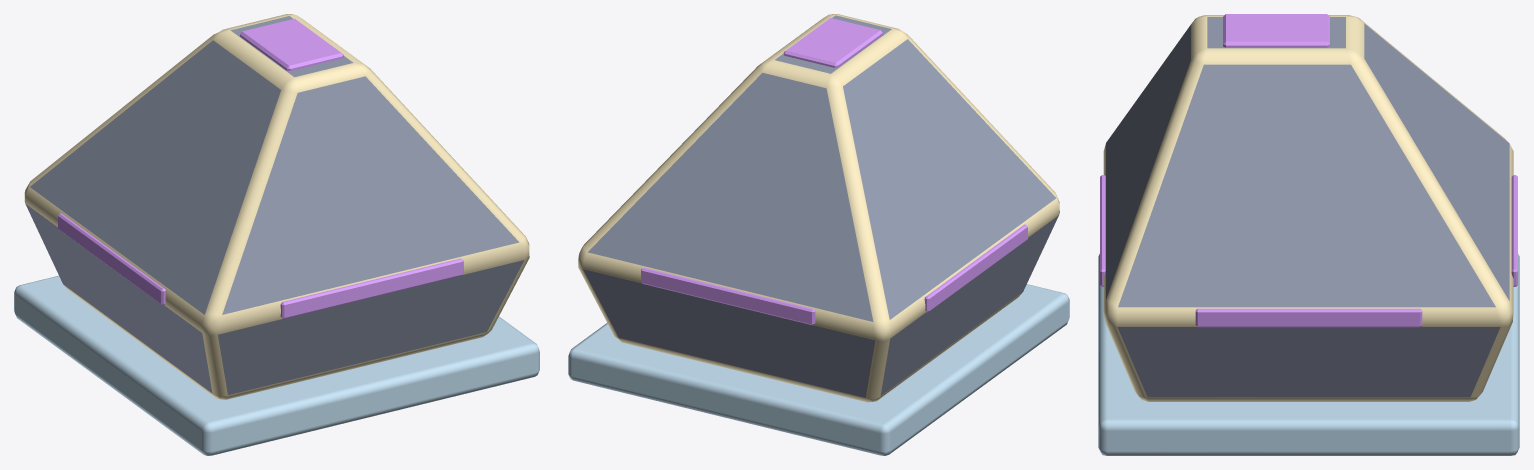
File: R4X_Stealth.glb
3 renders of one model, left to right at view 1: azimuth 30°, elevation 25°; view 2: azimuth 150°, elevation 25°; view 3: azimuth 270°, elevation 25°, orthographic. The views are drawn at different scales.
Parts seen in each view (by area): view 1: R4X_Stealth_Body; view 2: R4X_Stealth_Body; view 3: R4X_Stealth_Body.
Part boxes in pixels (box(x1,y1,x2,y2)): R4X_Stealth_Body: box(14, 14, 539, 455); R4X_Stealth_Body: box(568, 14, 1069, 455); R4X_Stealth_Body: box(1098, 14, 1519, 455).
Size of the model in its own units: 0.52 by 0.4665 by 0.52.
